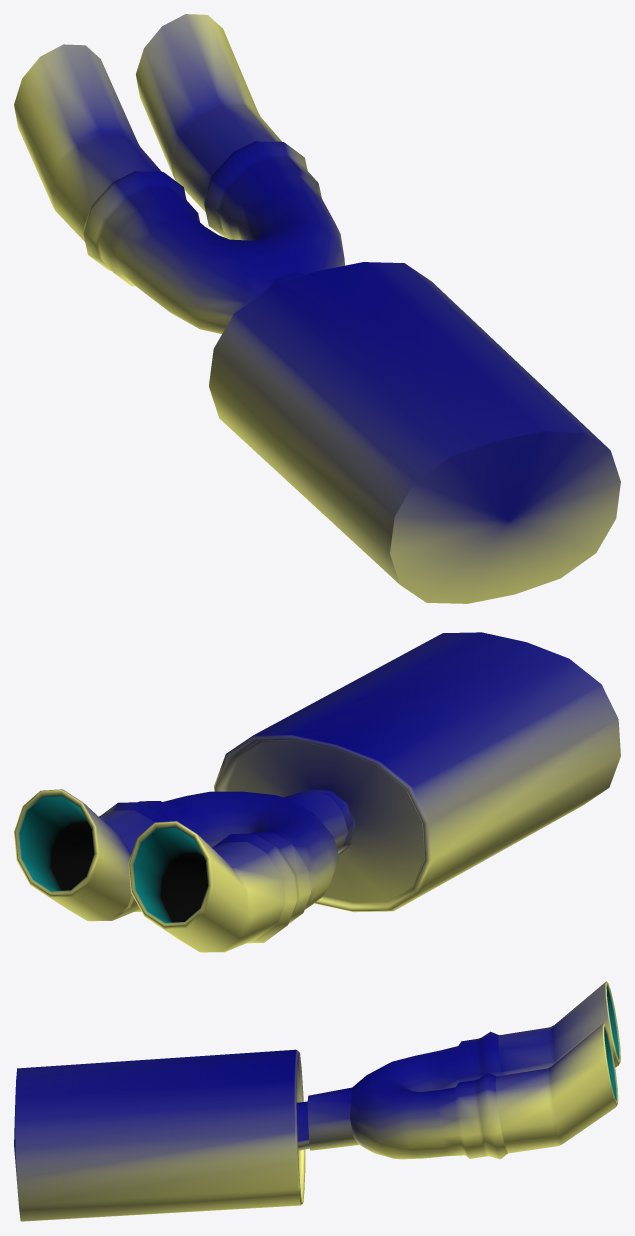
File: Car_Nissan_SkylineGTRVspecR34_1999_Exhausts_SetFH.fbx
The picture shows the model from 3 angles, top to bottom: view 1: azimuth 30°, elevation 25°; view 2: azimuth 150°, elevation 25°; view 3: azimuth 270°, elevation 25°; orthographic projection. The views are drawn at different scales.
Visible parts, largest first — view 1: Exhausts 6; view 2: Exhausts 6; view 3: Exhausts 6.
Part boxes in pixels (left/top/right/bottom): Exhausts 6: left=14, top=14, right=620, bottom=603; Exhausts 6: left=14, top=632, right=620, bottom=952; Exhausts 6: left=14, top=981, right=620, bottom=1221.
Bounding box in the file's own units: 0.167 × 0.1871 × 0.4989.
